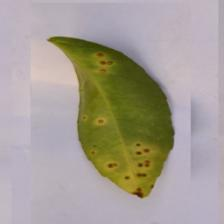canker: (78, 45, 160, 203)
